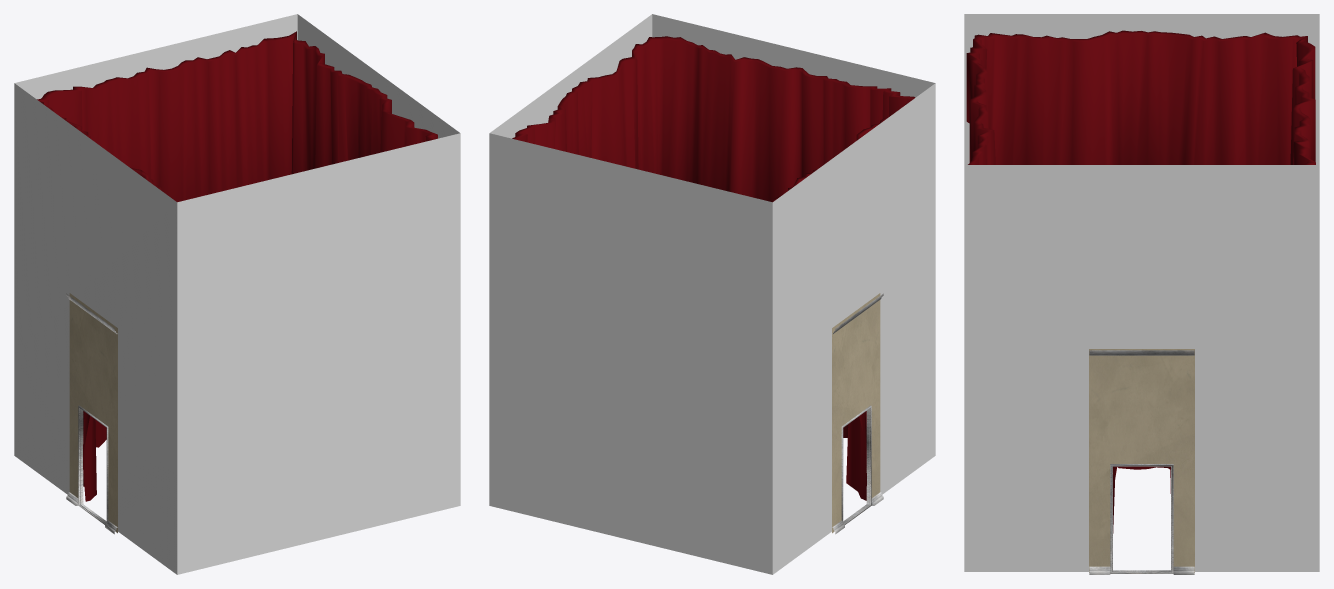
Rendered from RedRoomWall02.fbx.
3 renders of one model, left to right at view 1: azimuth 30°, elevation 25°; view 2: azimuth 150°, elevation 25°; view 3: azimuth 270°, elevation 25°, orthographic. The views are drawn at different scales.
Parts seen in each view (by area): view 1: Cube.006; view 2: Cube.006; view 3: Cube.006.
Part boxes in pixels (box(x1,y1,x2,y2)): Cube.006: box(14, 14, 460, 574); Cube.006: box(489, 14, 935, 574); Cube.006: box(964, 14, 1319, 574).
Bounding box in the file's own units: 210 × 254 × 201.
